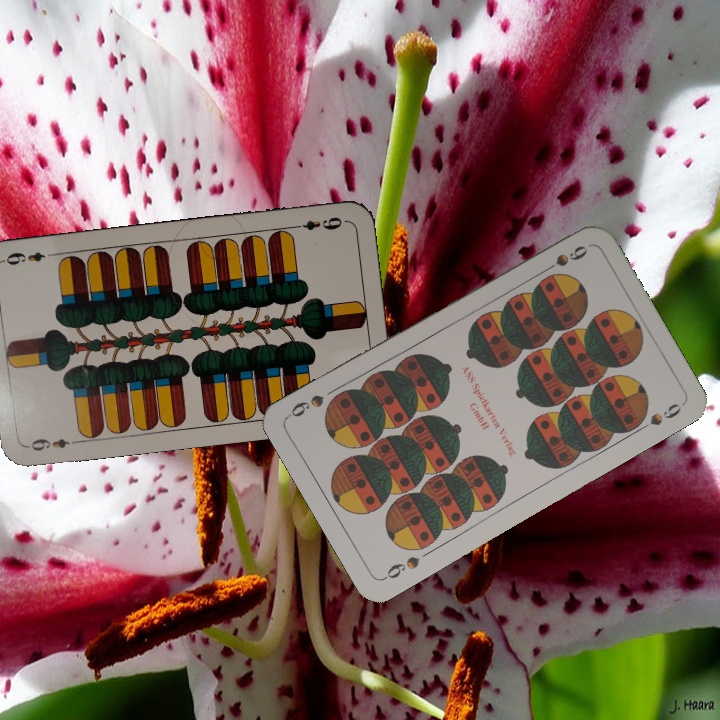E9: (289, 212, 348, 233), (22, 434, 81, 454)
S9: (536, 241, 591, 277), (379, 552, 422, 583)
